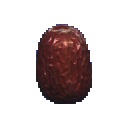gd: (21, 17, 100, 115)
